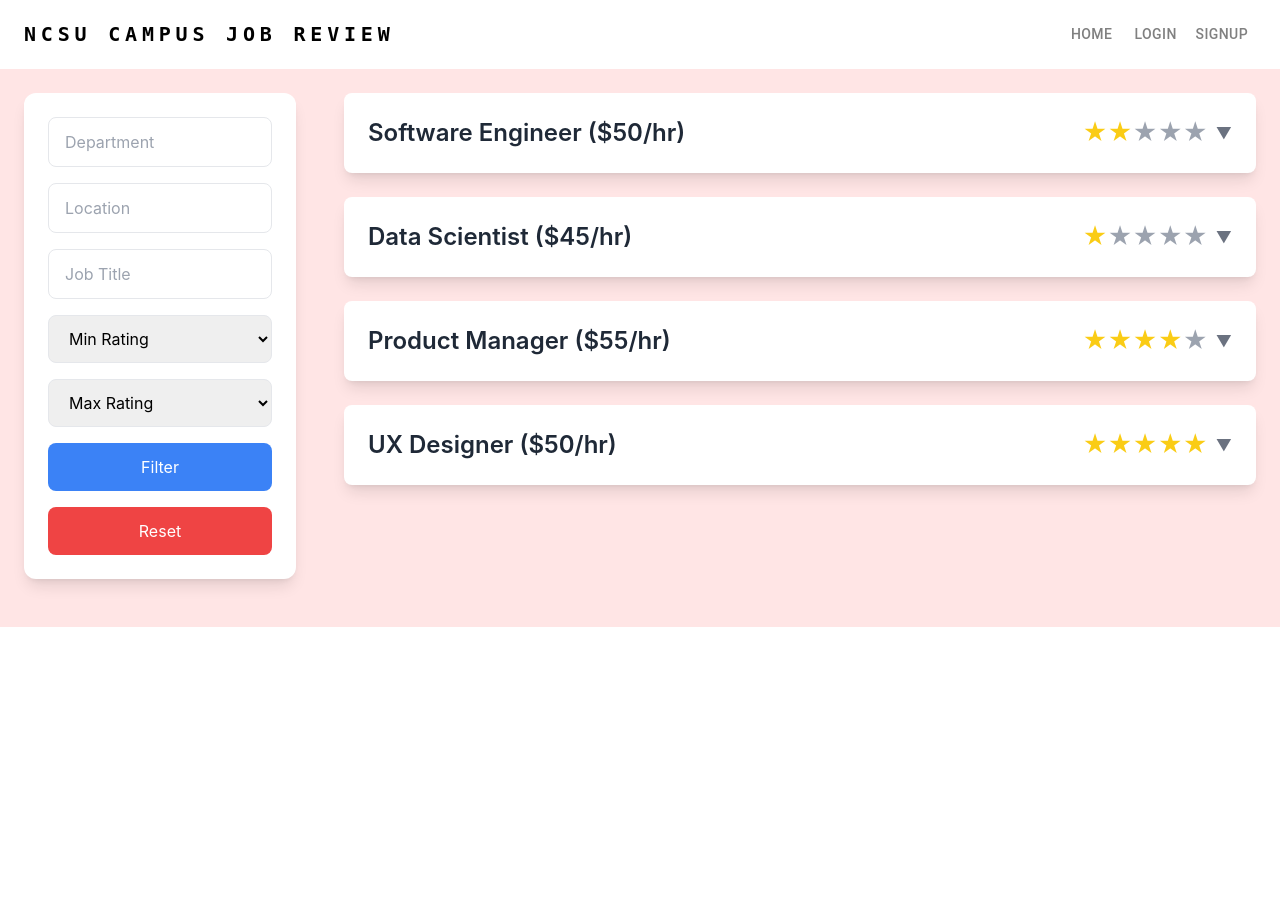
Test: ViewReview Component › Filters reviews based on maximum rating
// select 3 as the maximum rating in the drop down menu
Select "3" in the dropdown named "Max Rating". click: x=160, y=402
box: [48,378,272,426]
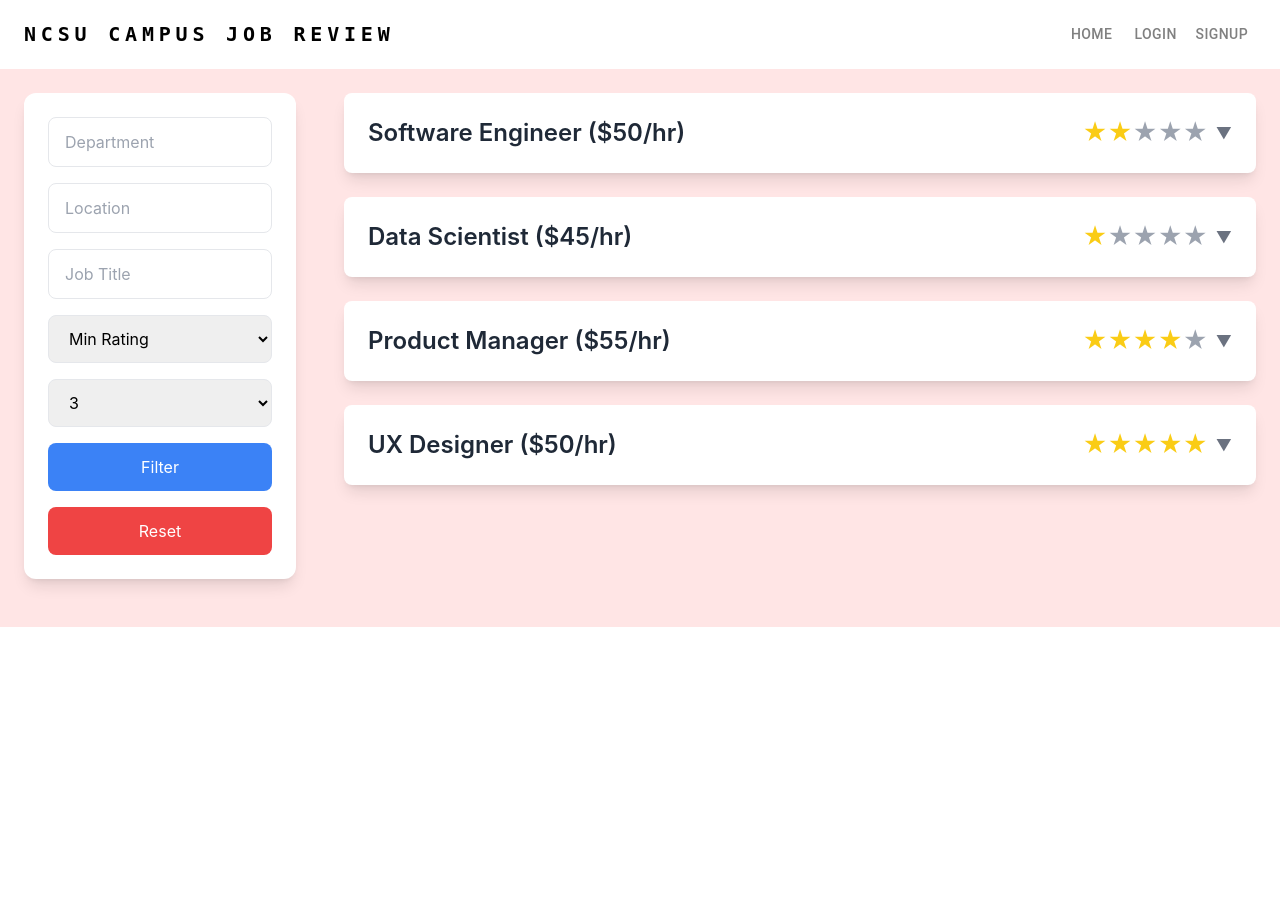
// click on the filter button
Click the button "Filter". click: x=160, y=466
box: [48,442,272,490]
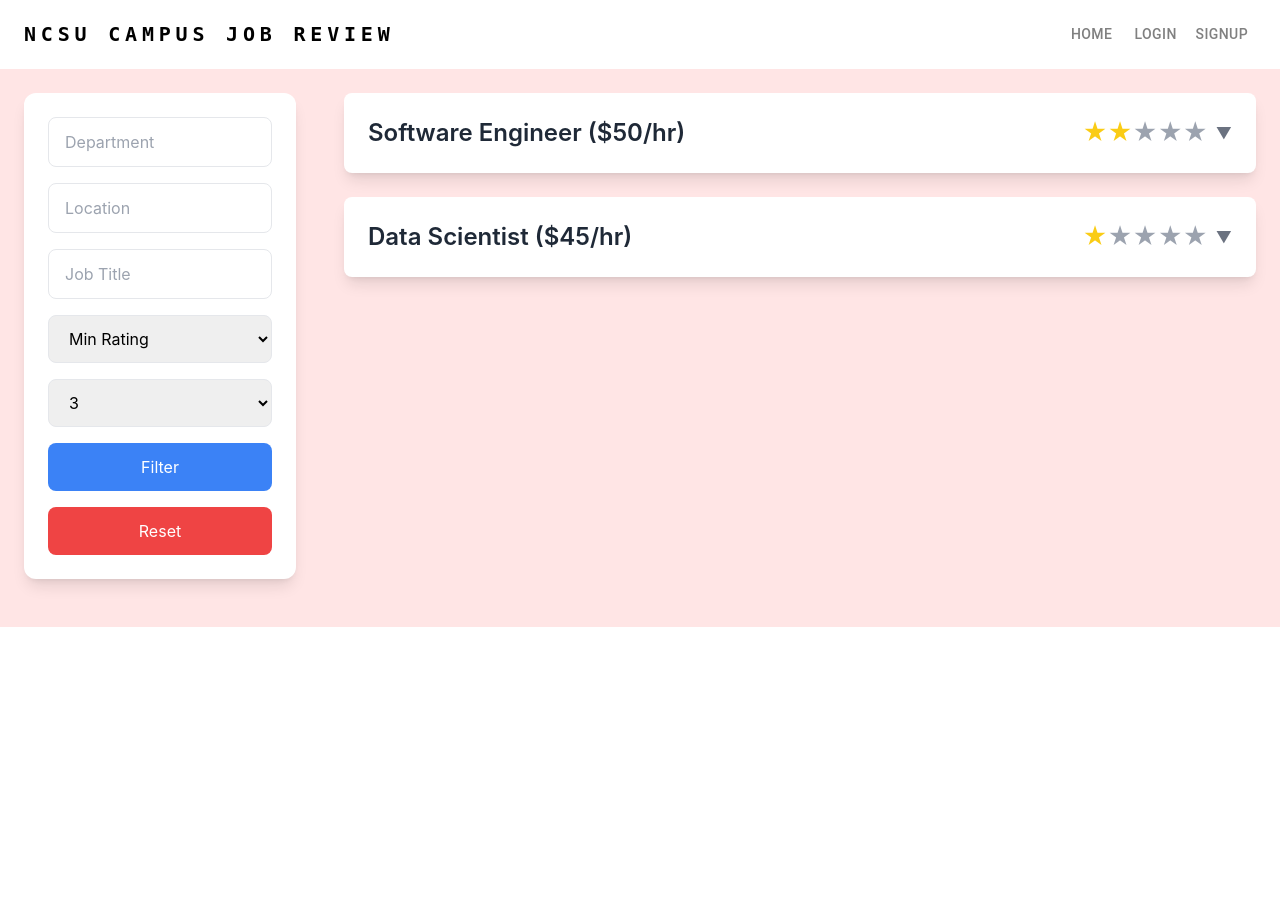
Expected: the link "Software Engineer ($50/hr)" is shown, [368,118,685,146]
Now the link "Product Manager" is gone
Now the link "UX Designer" is gone
